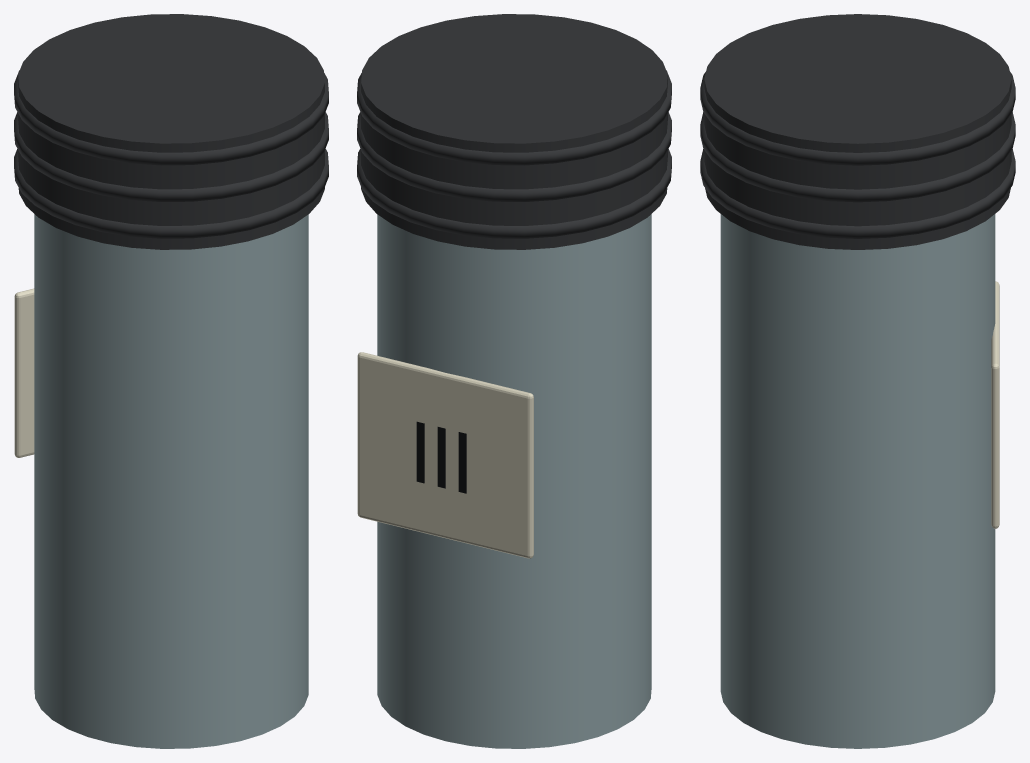
Rendered from specimen_c.glb.
The picture shows the model from 3 angles, left to right: view 1: azimuth 30°, elevation 25°; view 2: azimuth 150°, elevation 25°; view 3: azimuth 270°, elevation 25°; orthographic projection.
Visible parts, largest first — view 1: specimen_c; view 2: specimen_c; view 3: specimen_c.
Boxes of the visible parts, x1,y1,x2,y2 form: specimen_c: (14, 14, 328, 748); specimen_c: (357, 14, 671, 748); specimen_c: (700, 14, 1015, 748).
Bounding box in the file's own units: 0.078 × 0.167 × 0.078.
